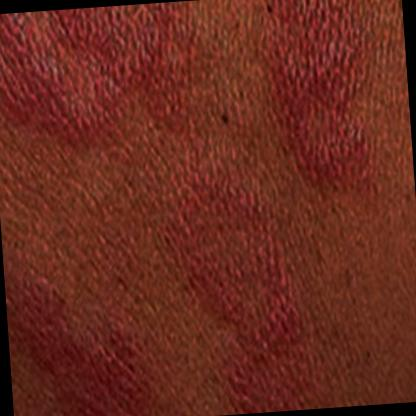Leprosy: (0, 0, 234, 169), (249, 0, 395, 210)
